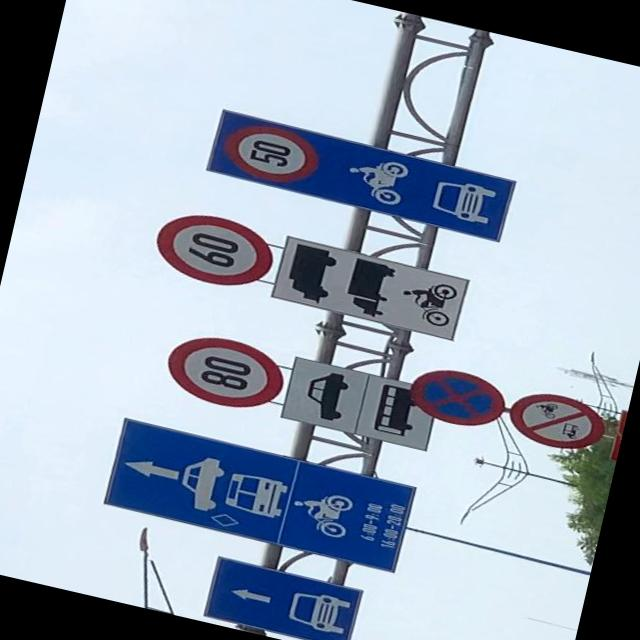P-104: (506, 385, 606, 455)
P-127: (148, 204, 278, 295), (162, 328, 290, 417)
P-130: (406, 362, 506, 432)
